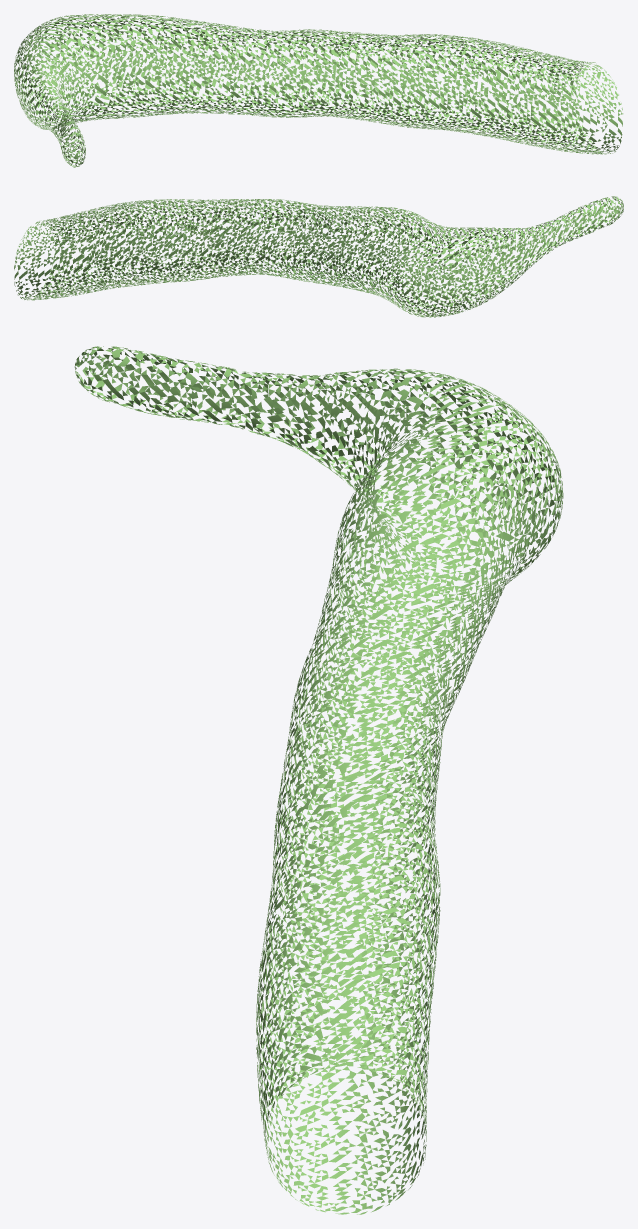
File: morph_014.glb
3 renders of one model, top to bottom at view 1: azimuth 30°, elevation 25°; view 2: azimuth 150°, elevation 25°; view 3: azimuth 270°, elevation 25°, orthographic. The views are drawn at different scales.
Bounding box in the file's own units: 121 × 42.67 × 48.6.
